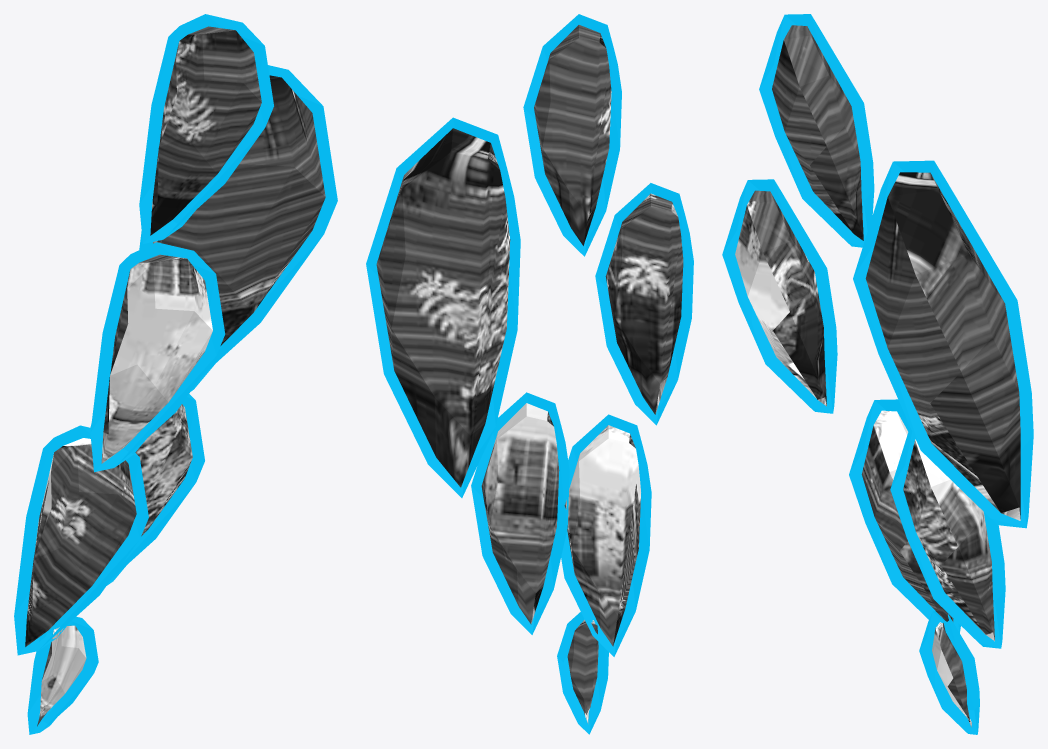
The model's file is We_Remember_as_Archival_Commons.glb.
3 views of the same model, side by side, from view 1: azimuth 30°, elevation 25°; view 2: azimuth 150°, elevation 25°; view 3: azimuth 270°, elevation 25° (orthographic). The views are drawn at different scales.
Visible parts, largest first — view 1: Alfonse Chiu.001; view 2: Alfonse Chiu.001; view 3: Alfonse Chiu.001.
Boxes of the visible parts, x1,y1,x2,y2 form: Alfonse Chiu.001: (14, 14, 337, 734); Alfonse Chiu.001: (366, 14, 693, 734); Alfonse Chiu.001: (722, 14, 1033, 734).
Bounding box in the file's own units: 1.38 × 3.22 × 1.2.
Materials: 2 (1 with a texture image).
